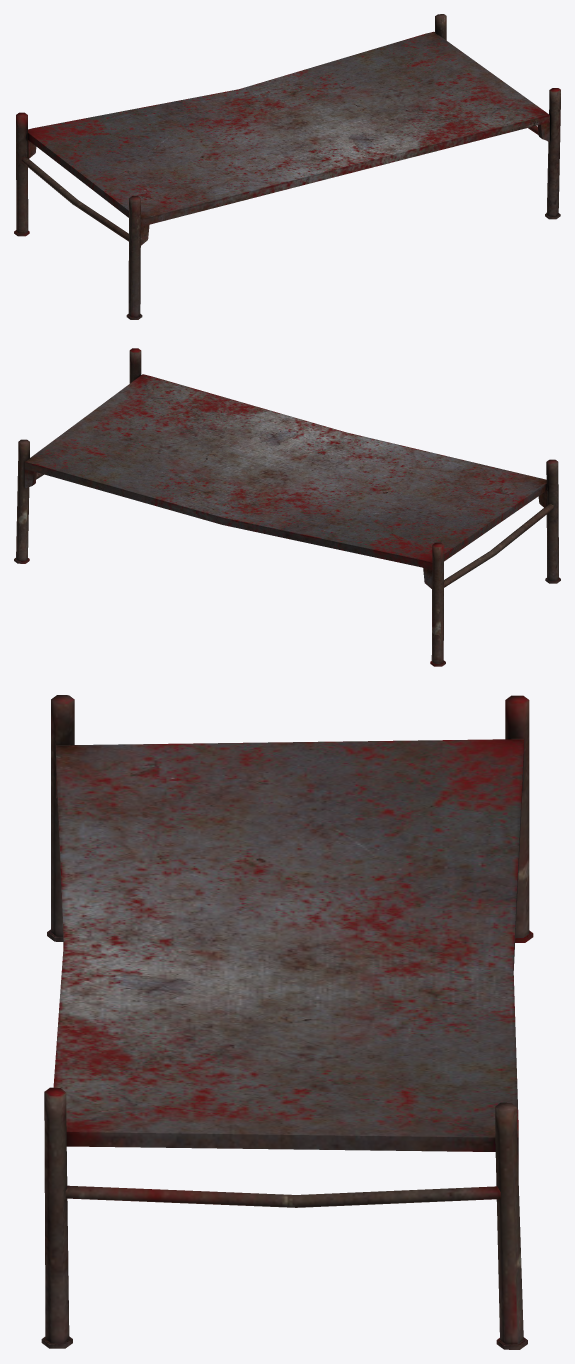
File: SlaughterBed.FBX
3 renders of one model, top to bottom at view 1: azimuth 30°, elevation 25°; view 2: azimuth 150°, elevation 25°; view 3: azimuth 270°, elevation 25°, orthographic. The views are drawn at different scales.
Visible parts, largest first — view 1: SlaughterBed; view 2: SlaughterBed; view 3: SlaughterBed.
Part boxes in pixels (left/top/right/bottom): SlaughterBed: left=14, top=14, right=560, bottom=319; SlaughterBed: left=14, top=348, right=560, bottom=666; SlaughterBed: left=41, top=695, right=533, bottom=1349.
Bounding box in the file's own units: 249 × 70.28 × 124.
